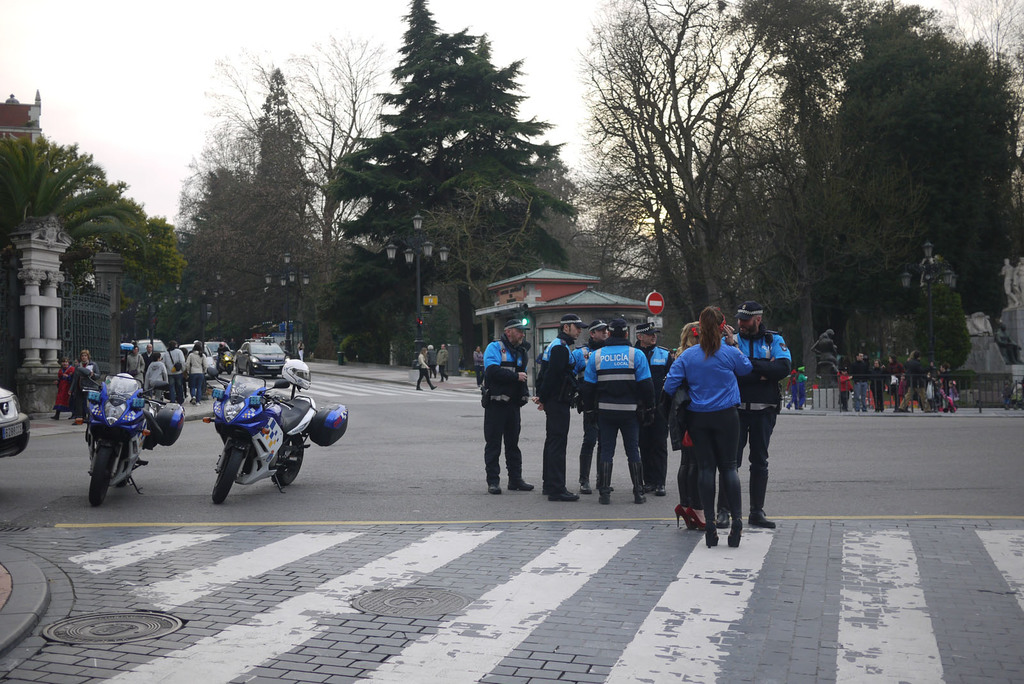Motorcycle: (197, 352, 345, 504), (86, 375, 185, 511)
